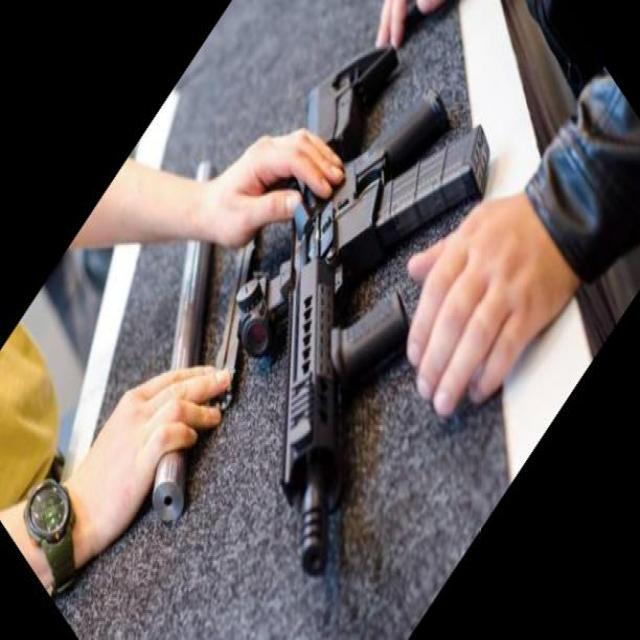weapon: (235, 45, 490, 578)
